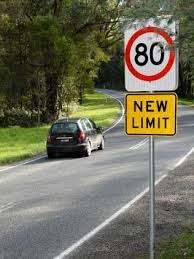sp80: (123, 31, 185, 77)
